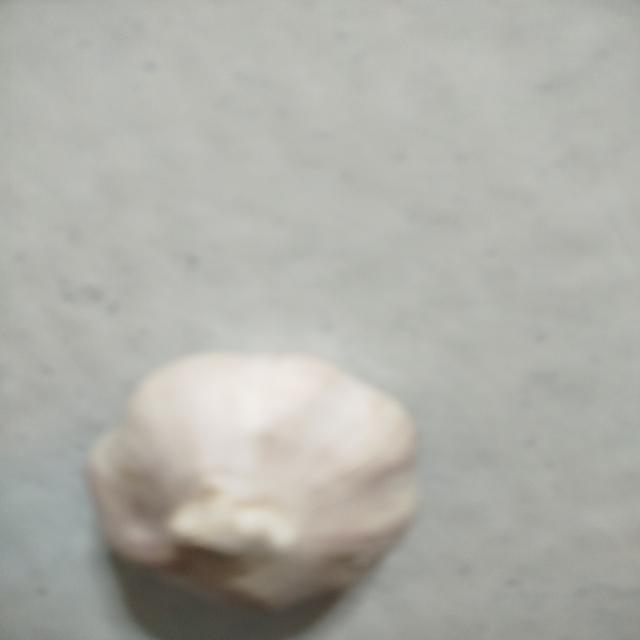garlic: (84, 348, 418, 630)
